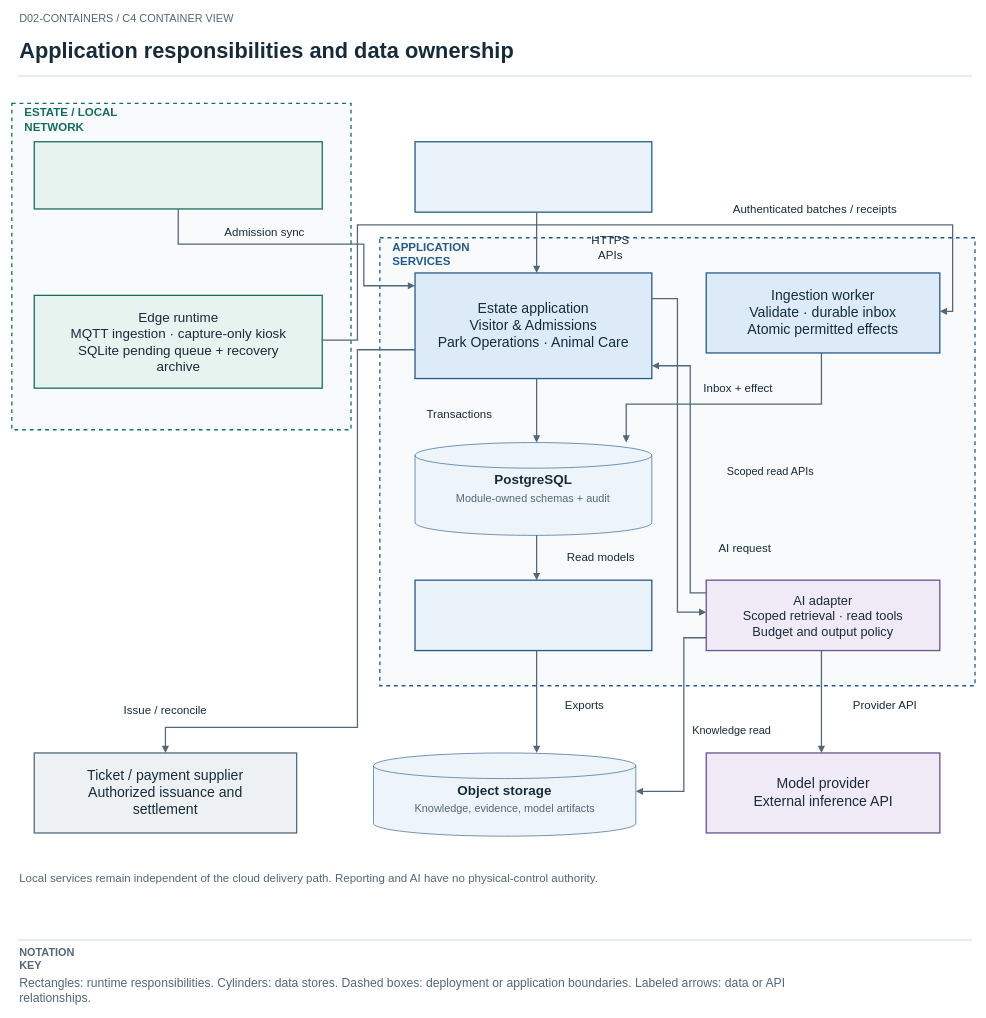
This 986x1018 diagram has some shape labels left out. The centre of each missing label's shape, as x and y in pixels:
"Admission authority Single writer · redemption journal" belongs at point 178,175.
"Reporting worker Popularity · return cohorts" belongs at point 533,615.
"Visitor and staff web clients Browser UI · HTTPS" belongs at point 533,176.
